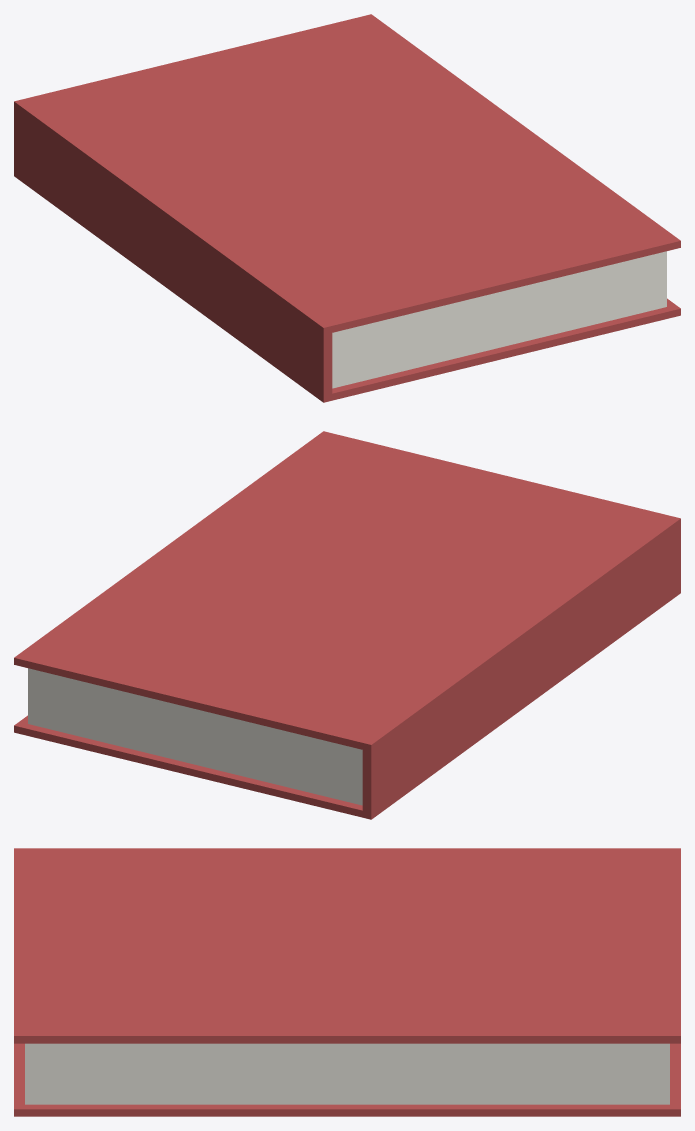
File: Prop_Book_B.fbx
The picture shows the model from 3 angles, top to bottom: view 1: azimuth 30°, elevation 25°; view 2: azimuth 150°, elevation 25°; view 3: azimuth 270°, elevation 25°; orthographic projection. The views are drawn at different scales.
Visible parts, largest first — view 1: Prop_Book_B; view 2: Prop_Book_B; view 3: Prop_Book_B.
Boxes of the visible parts, box(x1,y1,x2,y2) form: Prop_Book_B: box(14, 14, 680, 402); Prop_Book_B: box(14, 431, 680, 819); Prop_Book_B: box(14, 848, 680, 1116).
Bounding box in the file's own units: 0.16 × 0.032 × 0.24.
